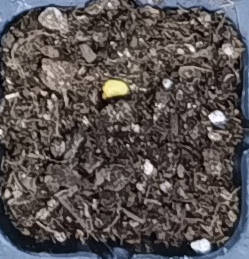chilli seed: (102, 79, 129, 97)
